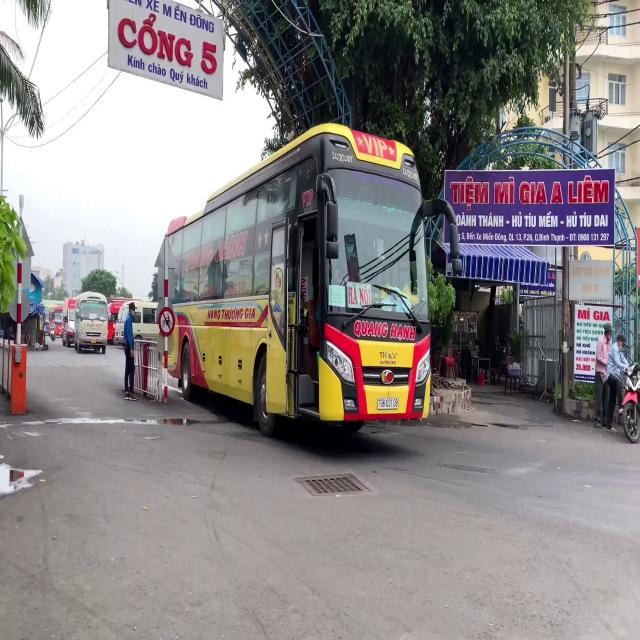bien_trang: (378, 396, 400, 411)
